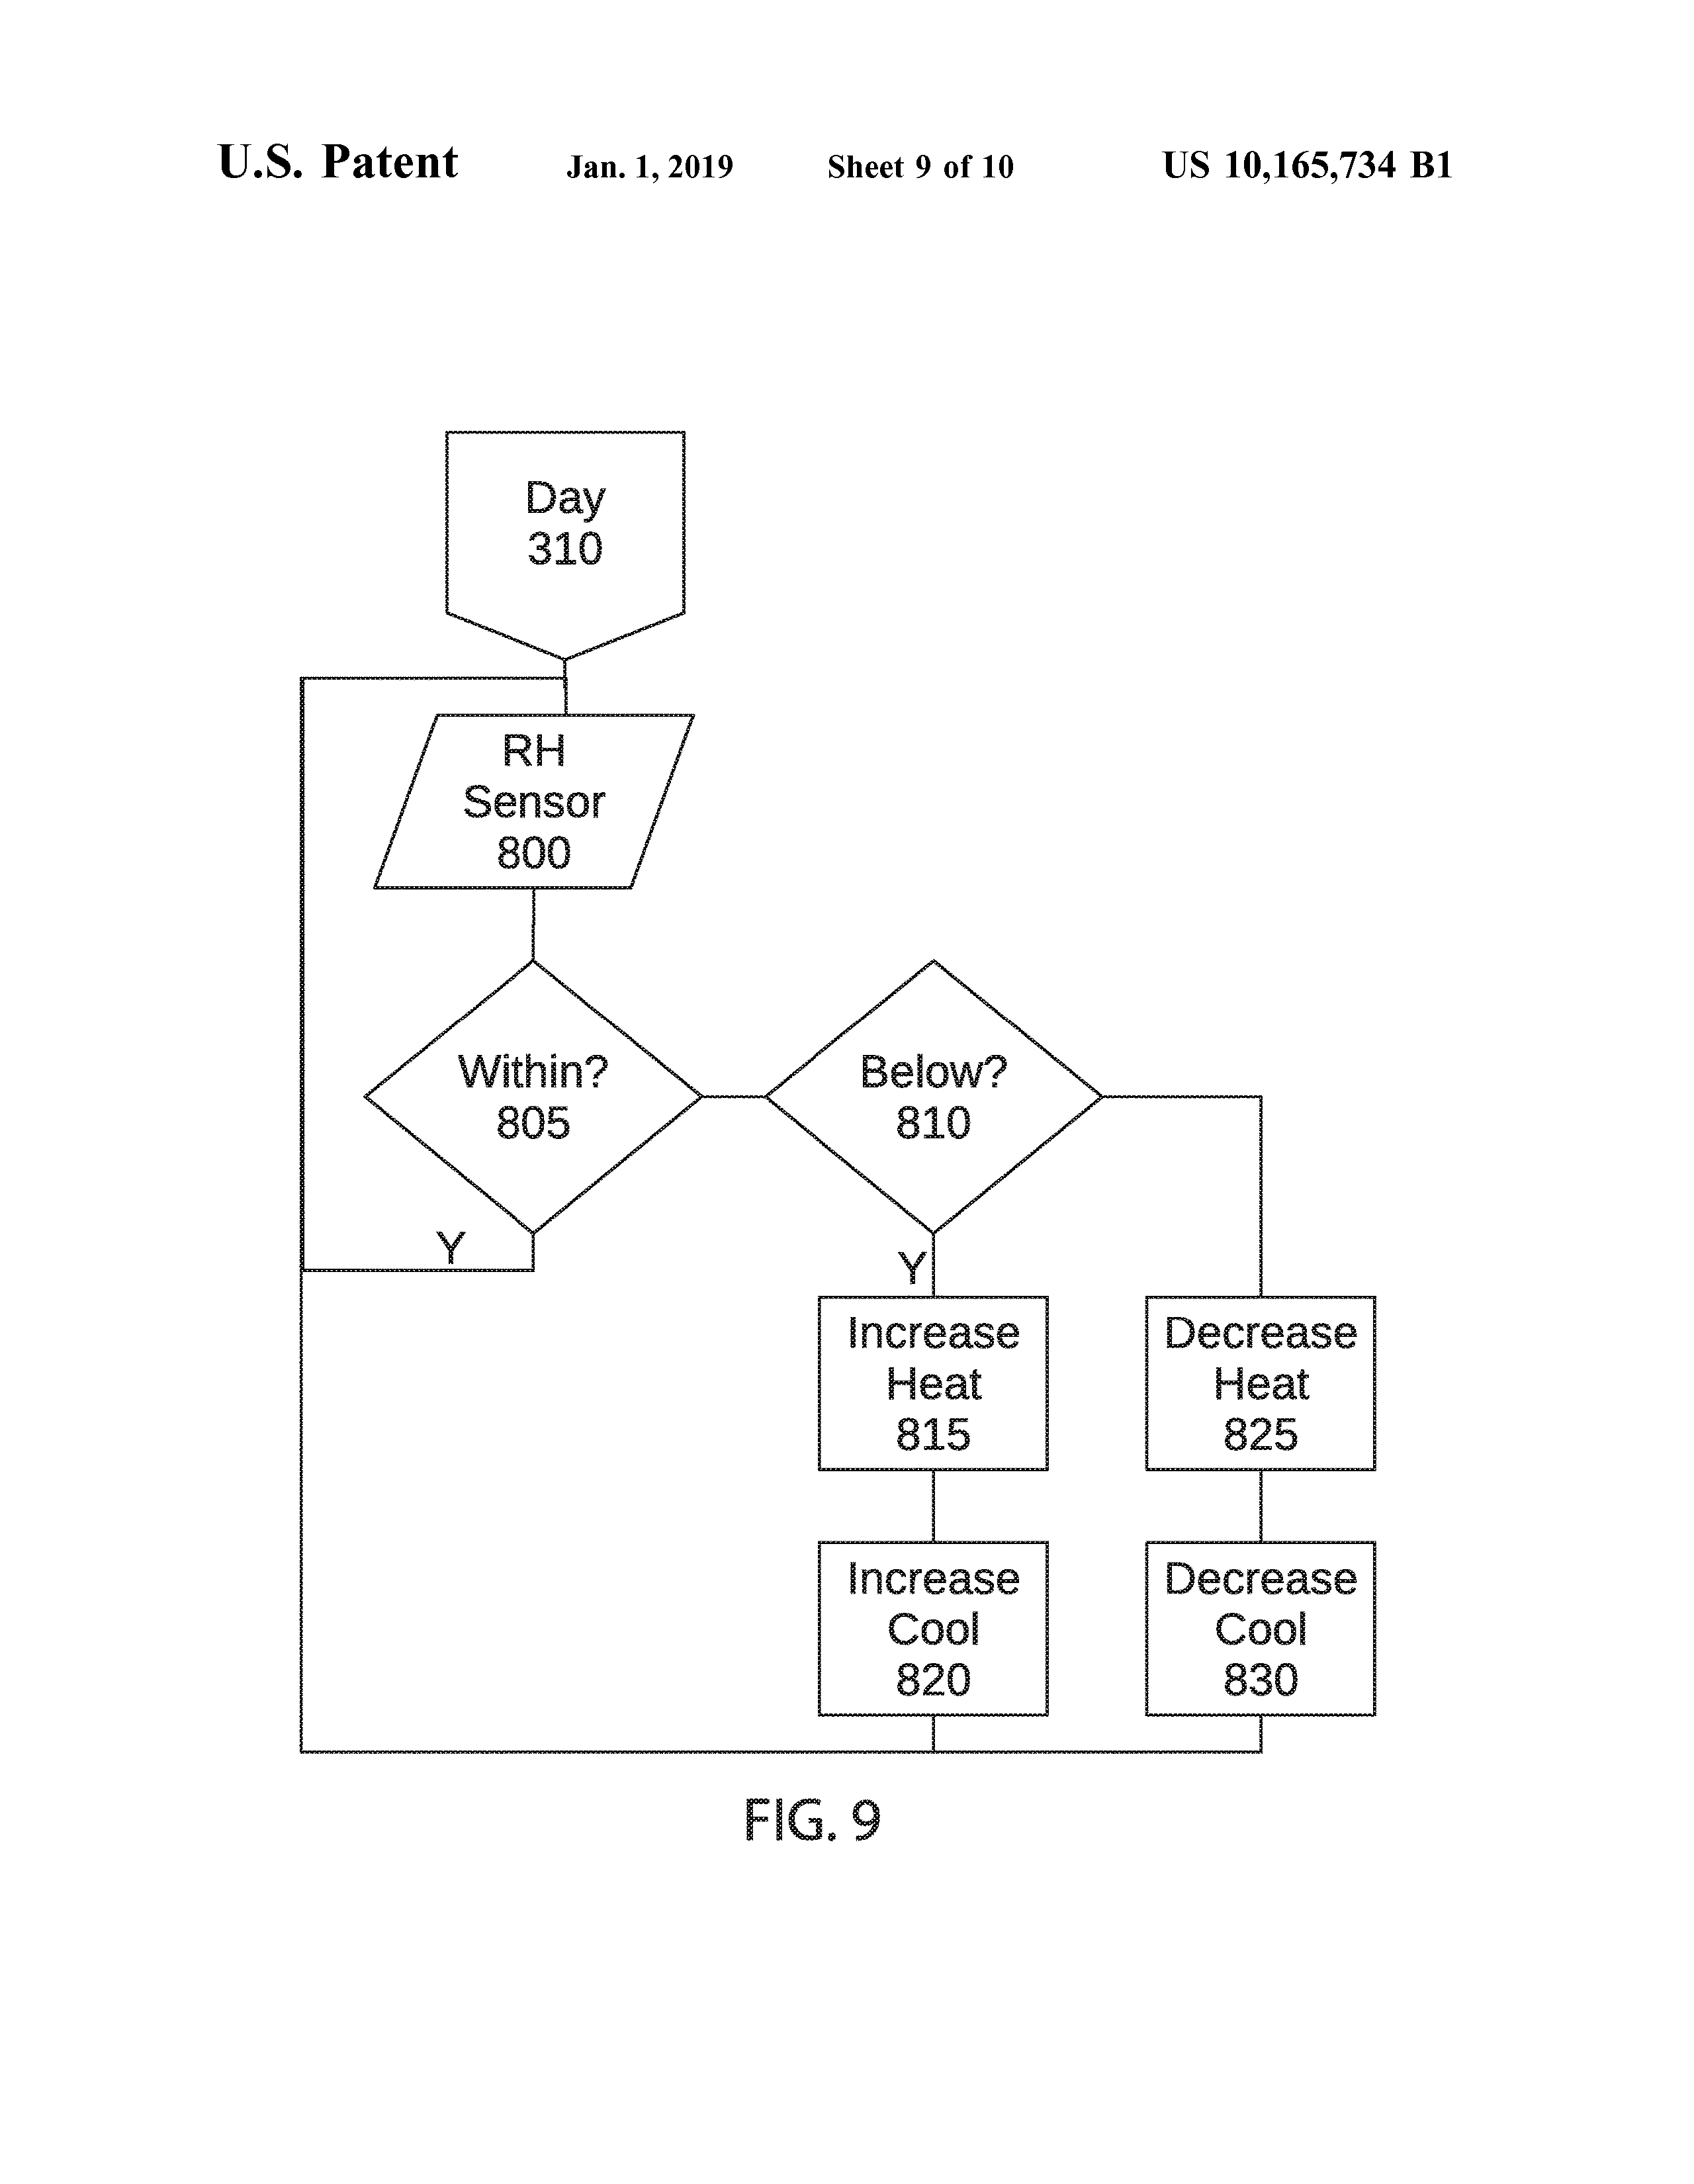patent image: (247, 400, 1449, 1890)
